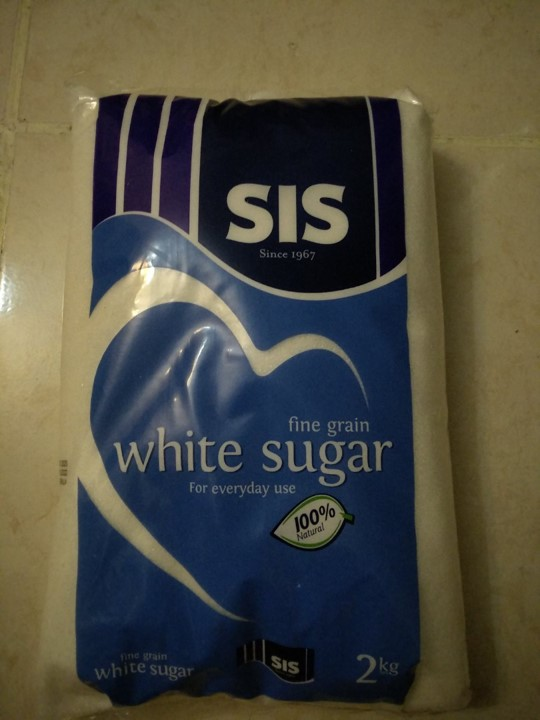sis white sugar: (70, 97, 471, 713)
